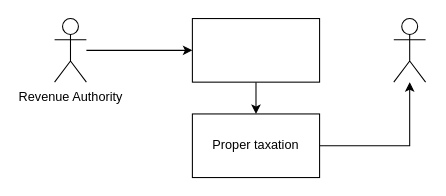
The diagram is 446 pixels wide and 196 high, and some of its shapes have lost their labels. The shapes that lost their labels are listed below. From the top down, each one's box as (x1, y1, x2, y2) in pixels, then its label:
(191, 17, 320, 82): Verifies ownership of User Properties
(393, 17, 426, 82): Owner
